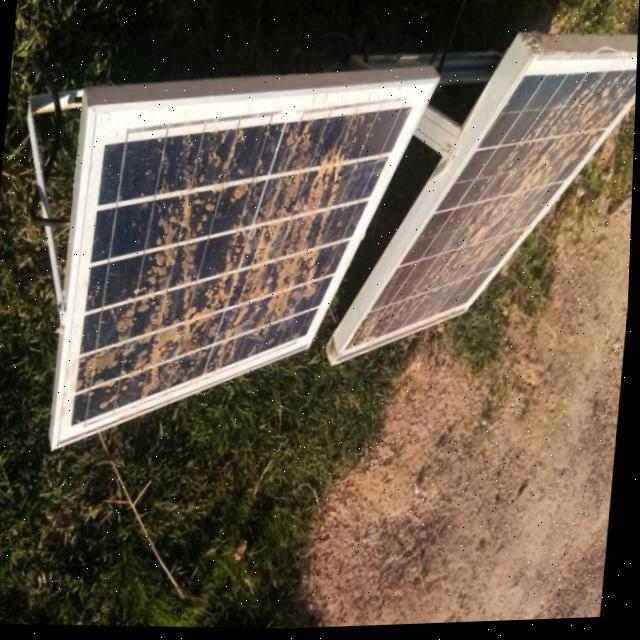Anomaly Solar Panel: (65, 100, 418, 442), (341, 66, 637, 359)
Surface Contaminant: (77, 111, 390, 418), (347, 71, 637, 356)
